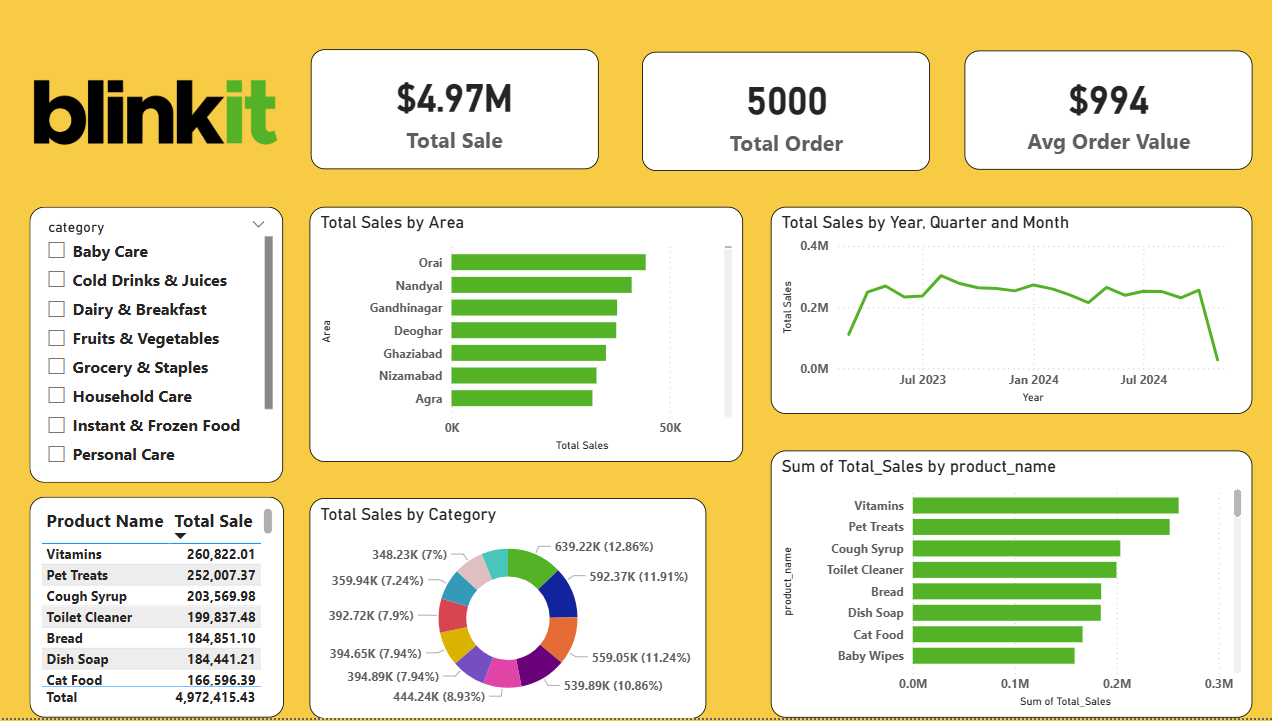

The dashboard page shown, as its layout file describes it:
{"tool":"powerbi","page":{"name":"Page 1","canvas":[1280,720],"ordinal":0},"visuals":[{"type":"card","fields":{"Values":["blinkit_dashboard_data.Total Order"]},"box":[644.9,53.5,288.2,119.4],"z":0},{"type":"card","fields":{"Values":["blinkit_dashboard_data.Total Sale"]},"box":[313.3,51.7,288.3,120],"z":1000},{"type":"card","fields":{"Values":["blinkit_dashboard_data.Avg Order Value"]},"box":[967.4,52.1,288.2,119.4],"z":2000},{"type":"clusteredBarChart","fields":{"Category":["blinkit_dashboard_data.area"],"Y":["Sum(blinkit_dashboard_data.Total_Sales)"]},"box":[312.9,208.6,433.6,255.2],"z":3000},{"type":"barChart","fields":{"Category":["blinkit_dashboard_data.product_name"],"Y":["Sum(blinkit_dashboard_data.Total_Sales)"]},"box":[773.9,452.8,481.6,267.6],"z":4000},{"type":"donutChart","fields":{"Category":["blinkit_dashboard_data.category"],"Y":["Sum(blinkit_dashboard_data.Total_Sales)"]},"box":[312.9,499.5,396.6,220.9],"z":5000},{"type":"lineChart","fields":{"Category":["blinkit_dashboard_data.order_date.Variation.Date Hierarchy.Year","blinkit_dashboard_data.order_date.Variation.Date Hierarchy.Quarter","blinkit_dashboard_data.order_date.Variation.Date Hierarchy.Month","blinkit_dashboard_data.order_date.Variation.Date Hierarchy.Day"],"Y":["Sum(blinkit_dashboard_data.Total_Sales)"]},"box":[773.9,208.6,481.6,207.2],"z":6000},{"type":"slicer","fields":{"Values":["blinkit_dashboard_data.category"]},"box":[32.9,208.6,253.9,275.8],"z":7000},{"type":"image","box":[32.9,0,253.9,240.1],"z":8000},{"type":"tableEx","fields":{"Values":["blinkit_dashboard_data.product_name","blinkit_dashboard_data.Total Sale"]},"box":[33,499,254,221],"z":9000}]}

Visuals, with their boxes in screenshot pixels (x1, y1, x2, y2), scaled from the page's 1280x720 canvas onto the 1272x721 screenshot:
card - blinkit_dashboard_data.Total Order: box=[641, 54, 927, 173]
card - blinkit_dashboard_data.Total Sale: box=[311, 52, 598, 172]
card - blinkit_dashboard_data.Avg Order Value: box=[961, 52, 1248, 172]
clusteredBarChart - blinkit_dashboard_data.area x Sum(blinkit_dashboard_data.Total_Sales): box=[311, 209, 742, 464]
barChart - blinkit_dashboard_data.product_name x Sum(blinkit_dashboard_data.Total_Sales): box=[769, 453, 1248, 720]
donutChart - blinkit_dashboard_data.category x Sum(blinkit_dashboard_data.Total_Sales): box=[311, 500, 705, 720]
lineChart - blinkit_dashboard_data.order_date.Variation.Date Hierarchy.Year x blinkit_dashboard_data.order_date.Variation.Date Hierarchy.Quarter: box=[769, 209, 1248, 416]
slicer - blinkit_dashboard_data.category: box=[33, 209, 285, 485]
image: box=[33, 0, 285, 240]
tableEx - blinkit_dashboard_data.product_name x blinkit_dashboard_data.Total Sale: box=[33, 500, 285, 720]
